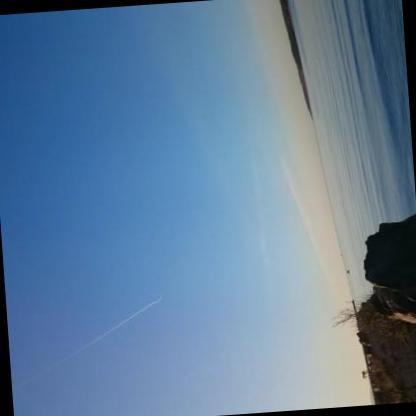plane: (154, 293, 165, 302)
